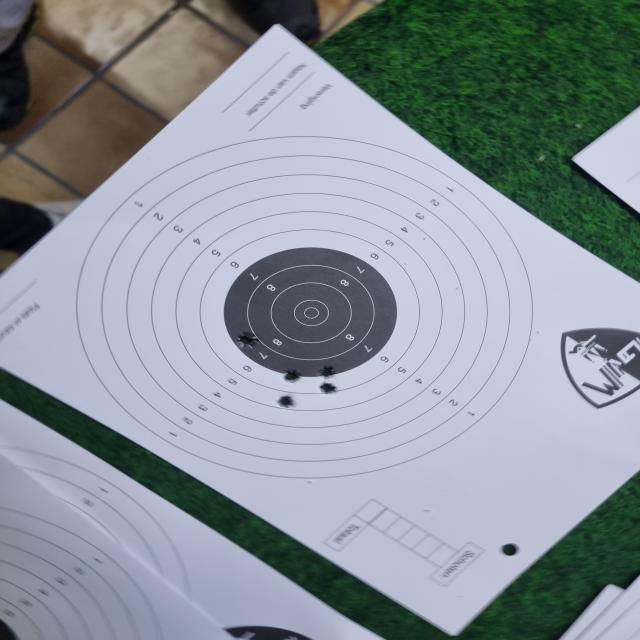5: (277, 395, 297, 408)
6: (319, 382, 338, 395)
7: (236, 332, 260, 349), (319, 365, 337, 380), (283, 369, 300, 384)
Target: (65, 145, 536, 478)
black_contour: (224, 248, 398, 376)
